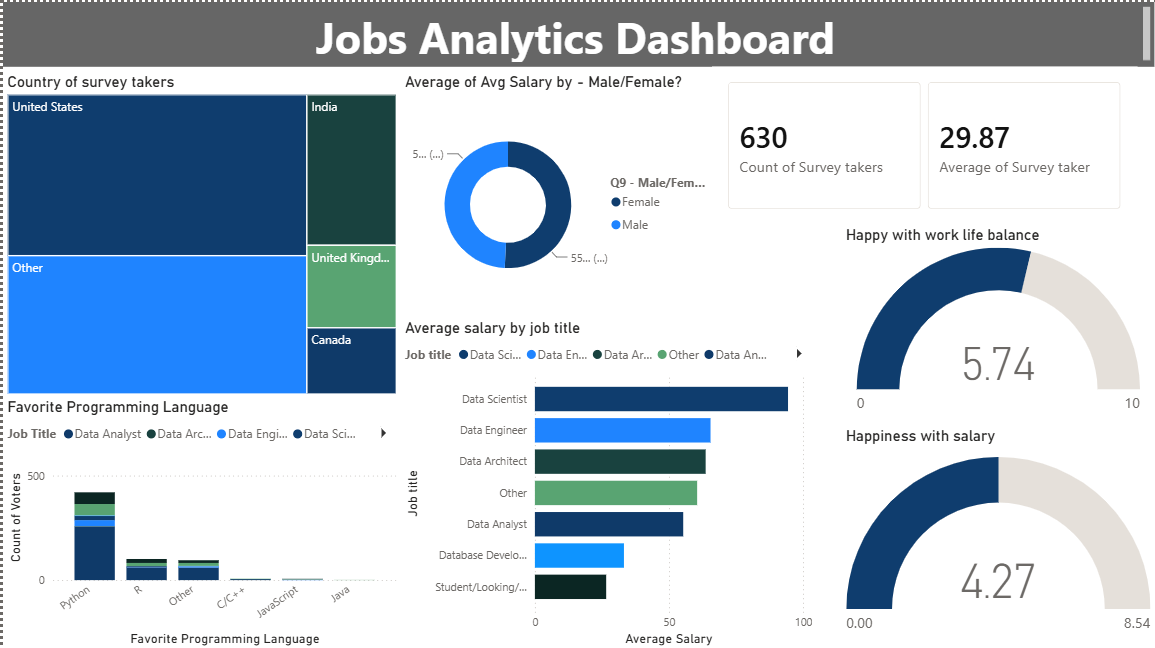

The dashboard page shown, as its layout file describes it:
{"tool":"powerbi","page":{"name":"Page 1","canvas":[1280,720],"ordinal":0},"visuals":[{"type":"textbox","box":[0,0,1279.4,71.8],"z":0},{"type":"cardVisual","fields":{"Data":["Count(Data Professional Survey.Unique ID)","Avg(Data Professional Survey.Q10 - Current Age)"]},"box":[789,72.1,471.8,175.1],"z":1000},{"type":"barChart","title":"Average salary by job title","fields":{"Category":["Data Professional Survey.Q1 - Which Title Best Fits your Current Role?.1"],"Y":["Avg(Data Professional Survey.Avg Salary)"],"Series":["Data Professional Survey.Q1 - Which Title Best Fits your Current Role?.1"]},"box":[442,352,462,368],"z":2000},{"type":"columnChart","title":"Favorite Programming Language","fields":{"Category":["Data Professional Survey.Q5 - Favorite Programming Language.1"],"Y":["CountNonNull(Data Professional Survey.Unique ID)"],"Series":["Data Professional Survey.Q1 - Which Title Best Fits your Current Role?.1"]},"box":[0,440,442,280],"z":3000},{"type":"treemap","title":"Country of survey takers","fields":{"Group":["Data Professional Survey.Q11 - Which Country do you live in?.1"],"Values":["CountNonNull(Data Professional Survey.Q11 - Which Country do you live in?.1)"]},"box":[0,78.3,441.7,361.7],"z":4000},{"type":"gauge","title":"Happy with work life balance","fields":{"Y":["Avg(Data Professional Survey.Q6 - How Happy are you in your Current Position with the following? (Work/Life Balance))"],"MinValue":["Min(Data Professional Survey.Q6 - How Happy are you in your Current Position with the following? (Work/Life Balance))1"],"MaxValue":["Max(Data Professional Survey.Q6 - How Happy are you in your Current Position with the following? (Work/Life Balance))2"]},"box":[932,248,348,218],"z":5000},{"type":"gauge","title":"Happiness with salary","fields":{"Y":["Avg(Data Professional Survey.Q6 - How Happy are you in your Current Position with the following? (Salary))"]},"box":[932,472,348,248],"z":6000},{"type":"donutChart","title":"Average of Avg Salary by - Male/Female?","fields":{"Category":["Data Professional Survey.Q9 - Male/Female?"],"Y":["Avg(Data Professional Survey.Avg Salary)"]},"box":[442,78,348,274],"z":7000}]}

Visuals, with their boxes in screenshot pixels (x1, y1, x2, y2), scaled from the page's 1280x720 canvas onto the 1155x648 screenshot:
textbox: (x1=0, y1=0, x2=1154, y2=65)
cardVisual - Count(Data Professional Survey.Unique ID) x Avg(Data Professional Survey.Q10 - Current Age): (x1=712, y1=65, x2=1138, y2=222)
"Average salary by job title" barChart: (x1=399, y1=317, x2=816, y2=647)
"Favorite Programming Language" columnChart: (x1=0, y1=396, x2=399, y2=647)
"Country of survey takers" treemap: (x1=0, y1=70, x2=399, y2=396)
"Happy with work life balance" gauge: (x1=841, y1=223, x2=1154, y2=419)
"Happiness with salary" gauge: (x1=841, y1=425, x2=1154, y2=647)
"Average of Avg Salary by - Male/Female?" donutChart: (x1=399, y1=70, x2=713, y2=317)
